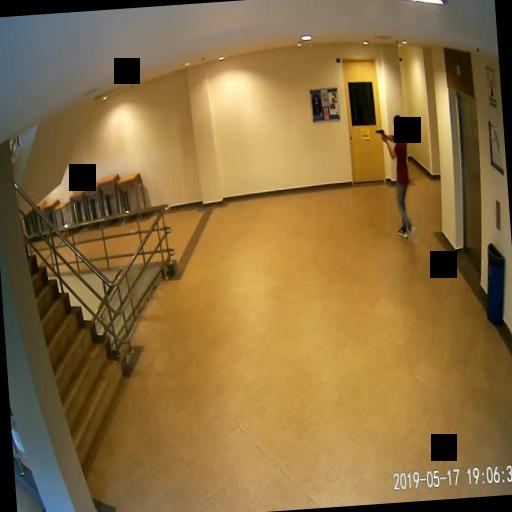Handgun: (374, 126, 384, 138)
